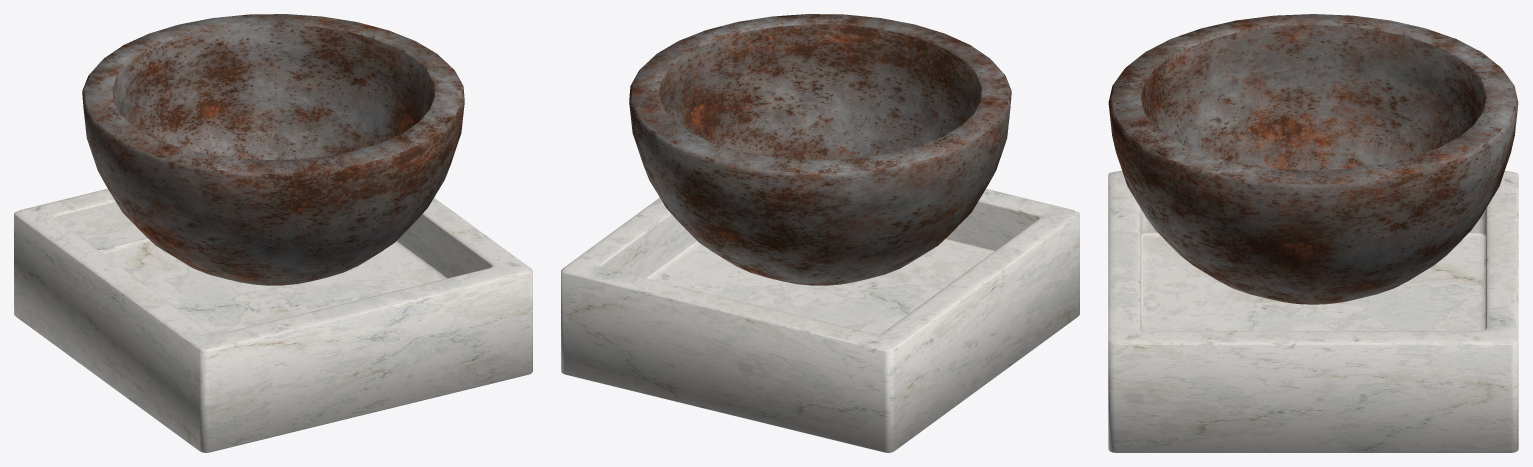
Rendered from bowl2.fbx.
3 renders of one model, left to right at view 1: azimuth 30°, elevation 25°; view 2: azimuth 150°, elevation 25°; view 3: azimuth 270°, elevation 25°, orthographic. The views are drawn at different scales.
Parts seen in each view (by area): view 1: Cube, Sphere; view 2: Cube, Sphere; view 3: Sphere, Cube.
Boxes of the visible parts, x1,y1,x2,y2 form: Cube: (14,188,532,452); Sphere: (82,14,464,285); Cube: (561,188,1079,452); Sphere: (629,14,1011,285); Sphere: (1108,14,1518,304); Cube: (1108,171,1518,452).
Bounding box in the file's own units: 200 × 146 × 200.
2 materials, 2 textured.
